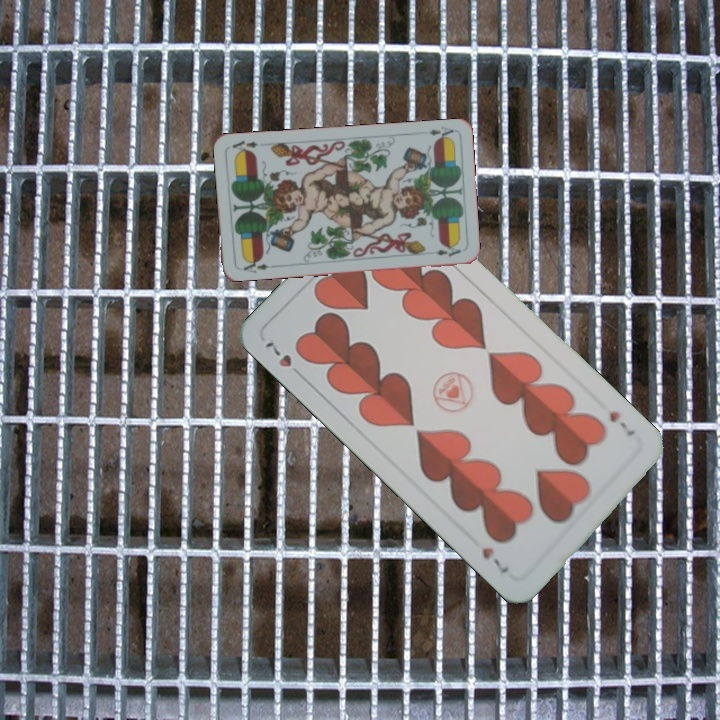EA: (416, 122, 456, 142), (240, 255, 271, 275)
H7: (260, 337, 306, 381), (605, 407, 638, 440)
